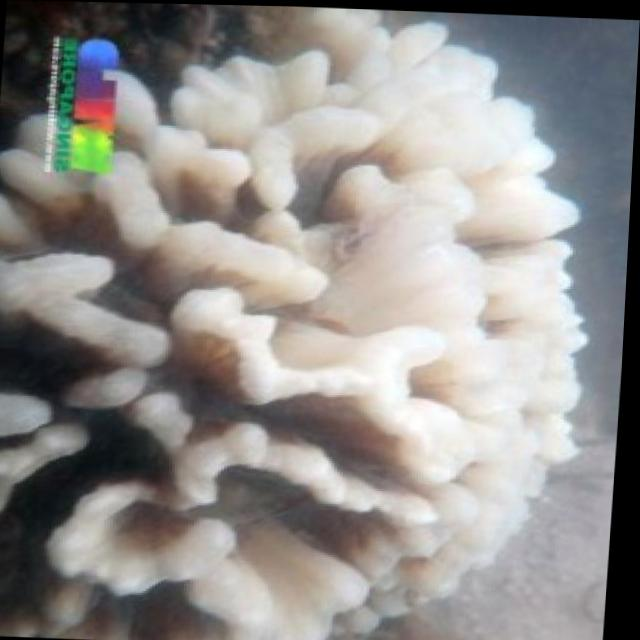Bleached Coral: (77, 2, 640, 640)
